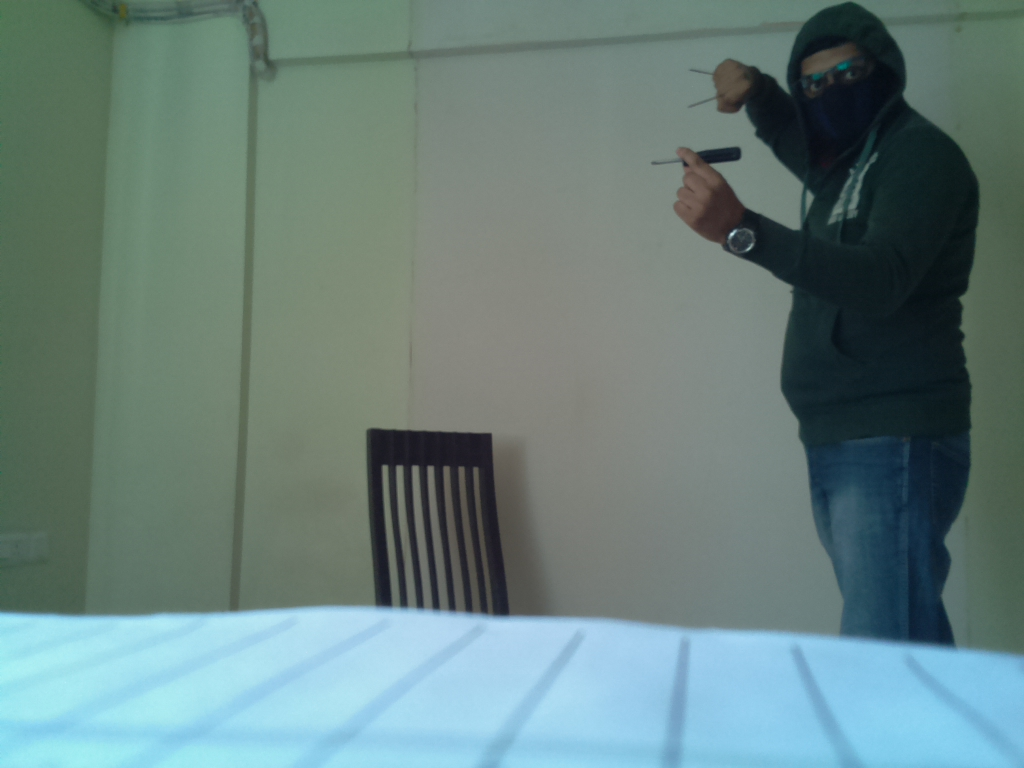none2: (723, 207, 764, 266)
none3: (648, 142, 749, 173), (686, 90, 733, 113), (684, 64, 720, 80)
